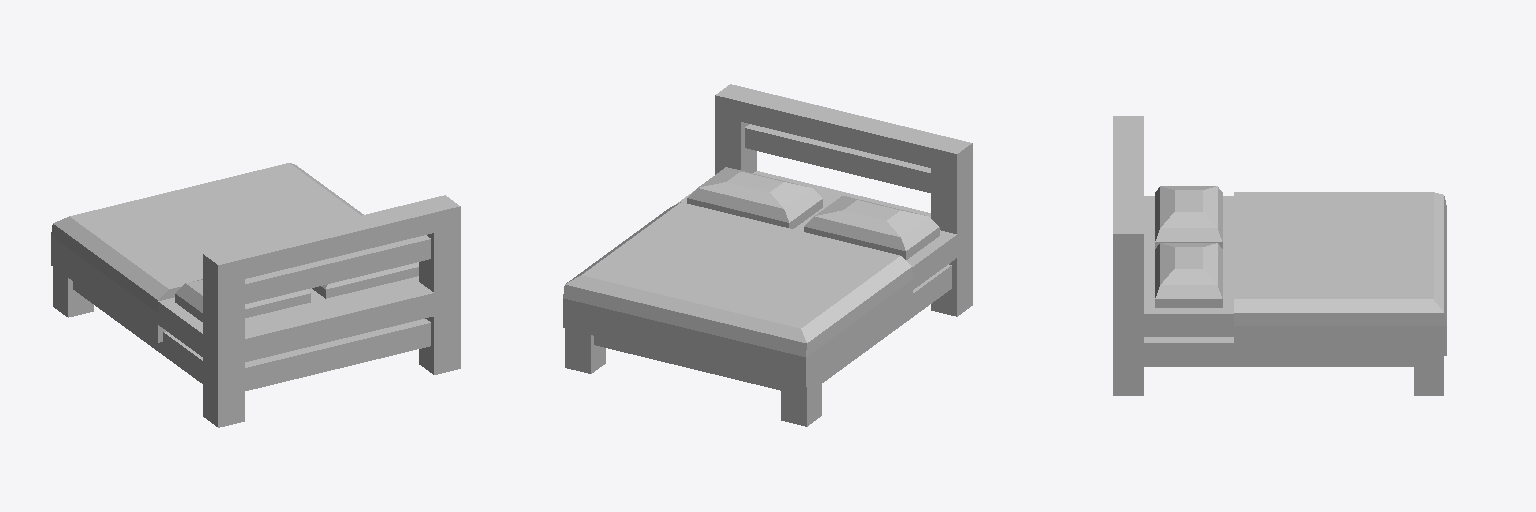
Rendered from bed_double_crystalhills.obj.
The picture shows the model from 3 angles: view 1: azimuth 30°, elevation 25°; view 2: azimuth 150°, elevation 25°; view 3: azimuth 270°, elevation 25°; orthographic projection.
Parts seen in each view (by area): view 1: bed_crystal_hills_double; view 2: bed_crystal_hills_double; view 3: bed_crystal_hills_double.
Part boxes in pixels (bbox=[...]): bed_crystal_hills_double: bbox=[51, 163, 460, 427]; bed_crystal_hills_double: bbox=[563, 84, 972, 426]; bed_crystal_hills_double: bbox=[1113, 116, 1446, 395].
Bounding box in the file's own units: 1.25 × 0.7995 × 1.49.